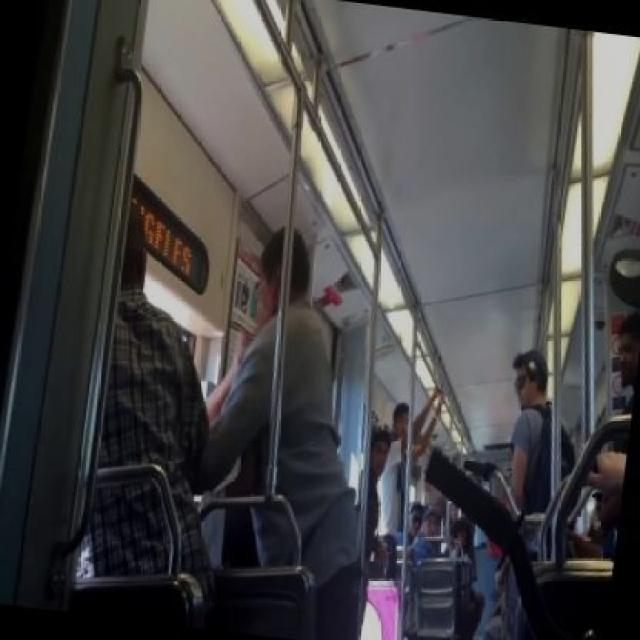fight: (88, 220, 369, 638)
non-fight: (490, 343, 575, 639)
